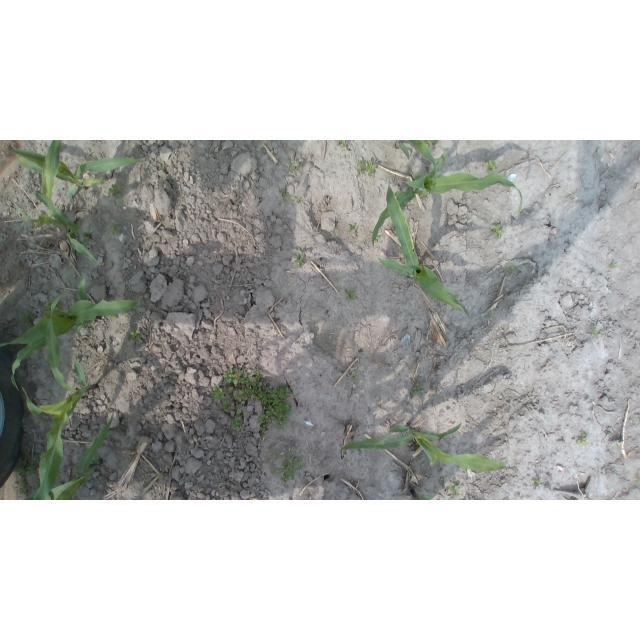Maize: (1, 273, 142, 388), (23, 294, 99, 500), (371, 152, 523, 248), (378, 179, 472, 320), (0, 140, 100, 265), (340, 421, 509, 473), (1, 141, 144, 198), (48, 405, 112, 500), (393, 141, 440, 176), (408, 483, 437, 500)
Weeds: (223, 368, 293, 436), (279, 452, 305, 484), (13, 467, 39, 495), (211, 384, 234, 413), (46, 298, 71, 315), (355, 160, 377, 177), (18, 310, 36, 330), (103, 182, 122, 198), (490, 224, 504, 241), (293, 250, 305, 268), (448, 481, 459, 499), (344, 288, 358, 302), (286, 160, 300, 173), (484, 159, 497, 173), (412, 383, 425, 396), (576, 431, 588, 445), (110, 224, 123, 236), (348, 223, 358, 237), (130, 331, 142, 342), (279, 188, 290, 199), (505, 263, 516, 274), (533, 477, 544, 488), (369, 232, 379, 243), (337, 140, 348, 150), (291, 196, 304, 203), (40, 415, 49, 425), (270, 465, 279, 475), (159, 159, 166, 171), (590, 325, 598, 335), (351, 372, 359, 382), (413, 173, 424, 180), (82, 238, 90, 247), (610, 261, 618, 268), (431, 140, 437, 149), (288, 446, 297, 452), (453, 293, 460, 300), (334, 275, 340, 283), (272, 453, 278, 460), (109, 316, 117, 321)
